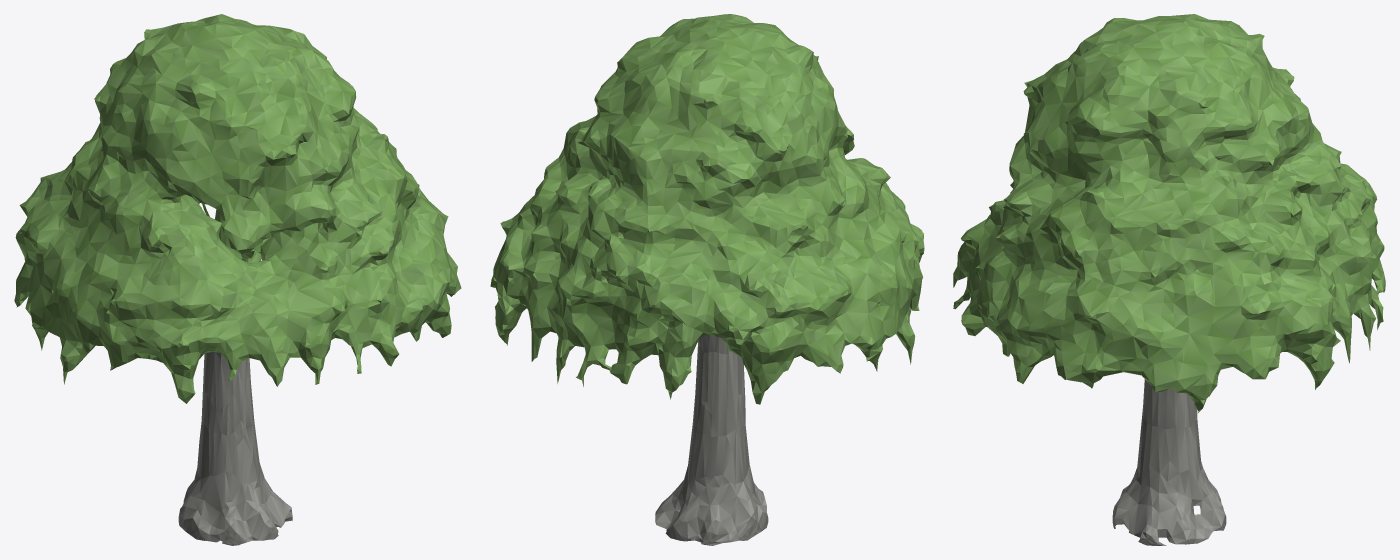
File: birch_tree.glb
3 views of the same model, side by side, from view 1: azimuth 30°, elevation 25°; view 2: azimuth 150°, elevation 25°; view 3: azimuth 270°, elevation 25° (orthographic).
Visible parts, largest first — view 1: world; view 2: world; view 3: world.
Part boxes in pixels (x1,y1,x2,y2): world: (14,14,461,545); world: (490,14,924,545); world: (953,14,1385,545).
Size of the model in its own units: 3.81 by 4.8 by 3.8.
